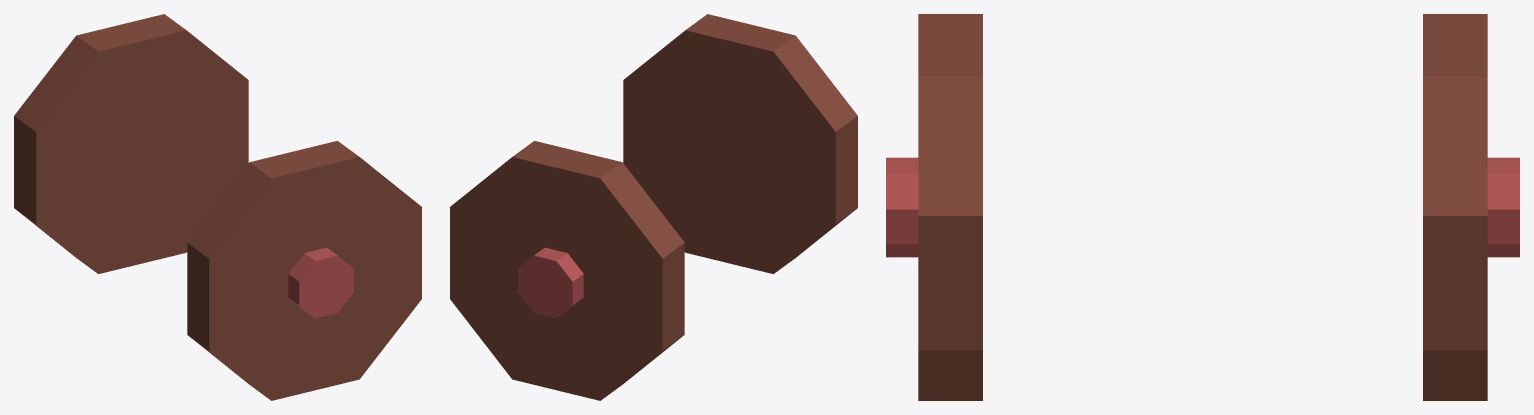
Rendered from cart_wheels.glb.
The picture shows the model from 3 angles, left to right: view 1: azimuth 30°, elevation 25°; view 2: azimuth 150°, elevation 25°; view 3: azimuth 270°, elevation 25°; orthographic projection. The views are drawn at different scales.
Visible parts, largest first — view 1: Wheels; view 2: Wheels; view 3: Wheels.
Boxes of the visible parts, x1,y1,x2,y2 form: Wheels: (14, 14, 421, 400); Wheels: (450, 14, 857, 400); Wheels: (886, 14, 1519, 400).
Bounding box in the file's own units: 0.6098 × 0.6098 × 1.08.
